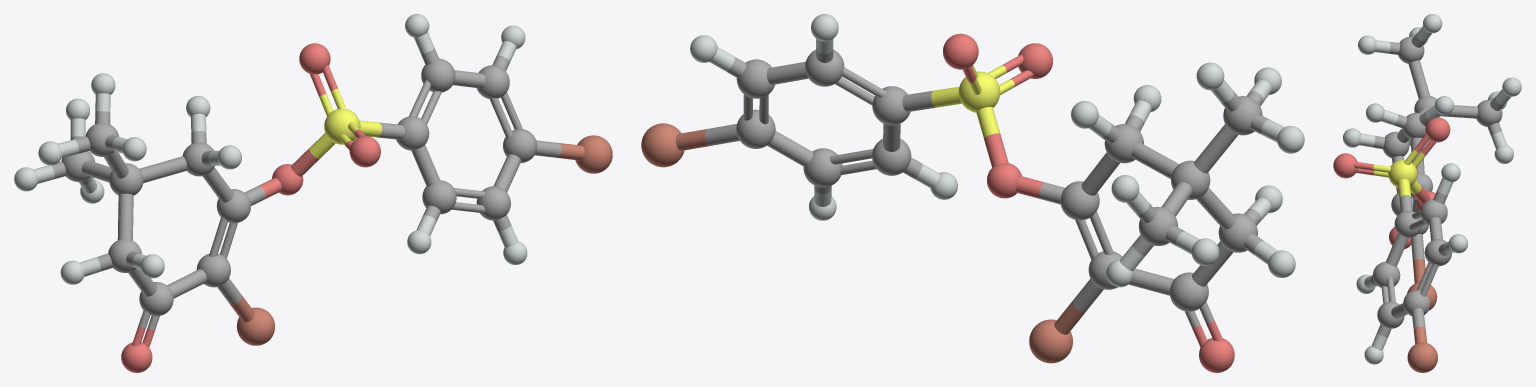
The model's file is CHD.glb.
3 renders of one model, left to right at view 1: azimuth 30°, elevation 25°; view 2: azimuth 150°, elevation 25°; view 3: azimuth 270°, elevation 25°, orthographic. The views are drawn at different scales.
Bounding box in the file's own units: 13.09 × 6.56 × 4.68.
